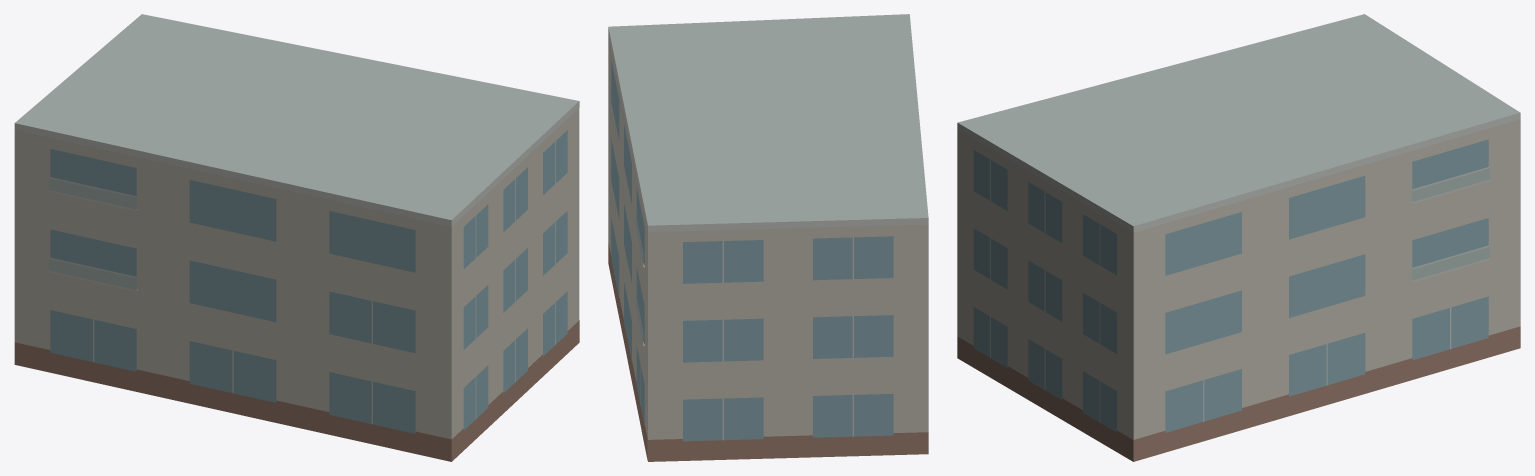
The model's file is survey-upis-32761556.glb.
The picture shows the model from 3 angles, left to right: view 1: azimuth 30°, elevation 25°; view 2: azimuth 150°, elevation 25°; view 3: azimuth 270°, elevation 25°; orthographic projection. The views are drawn at different scales.
Parts seen in each view (by area): view 1: survey-upis-32761556.tmp; view 2: survey-upis-32761556.tmp; view 3: survey-upis-32761556.tmp.
Part boxes in pixels (bbox=[...]): survey-upis-32761556.tmp: bbox=[14, 14, 579, 461]; survey-upis-32761556.tmp: bbox=[608, 14, 928, 461]; survey-upis-32761556.tmp: bbox=[957, 14, 1520, 461].
Size of the model in its own units: 17.21 by 8.9 by 19.29.
